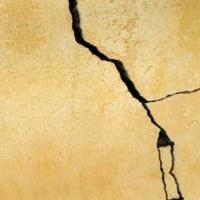crack: (59, 0, 197, 199)
